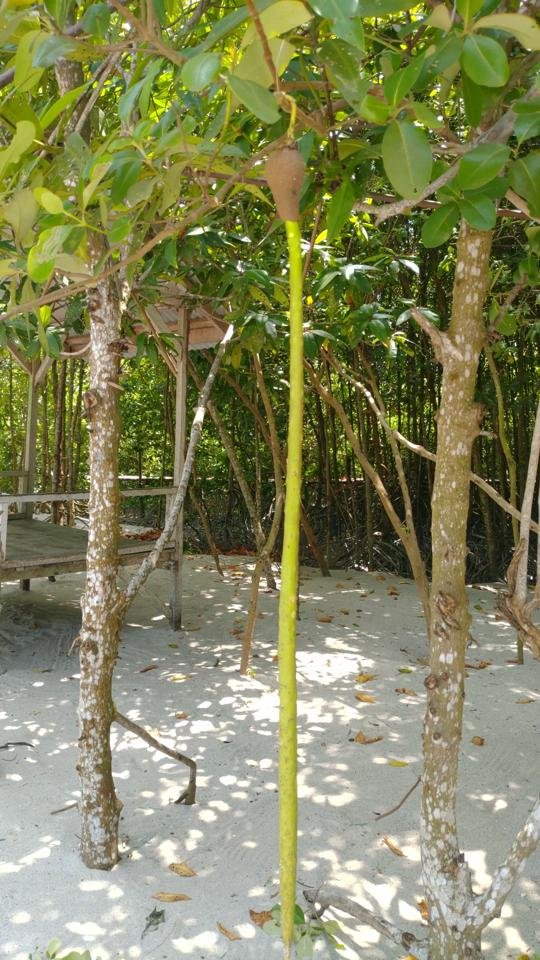mentah: (249, 129, 323, 955)
